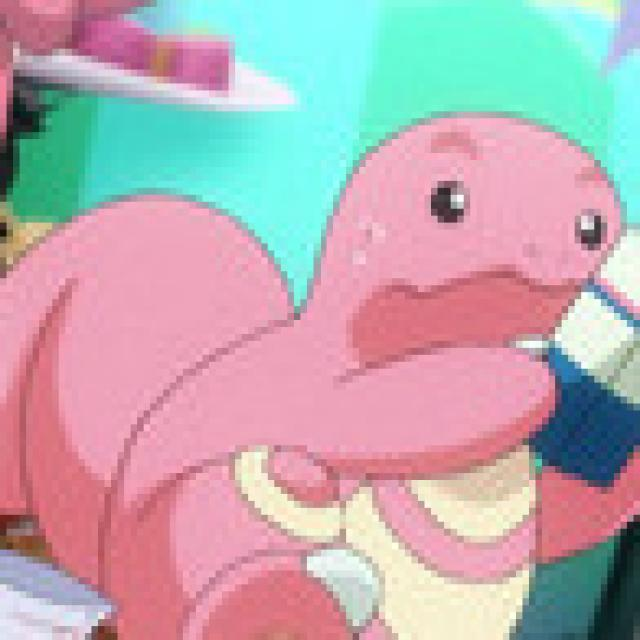Lickitung: (89, 114, 637, 637)
